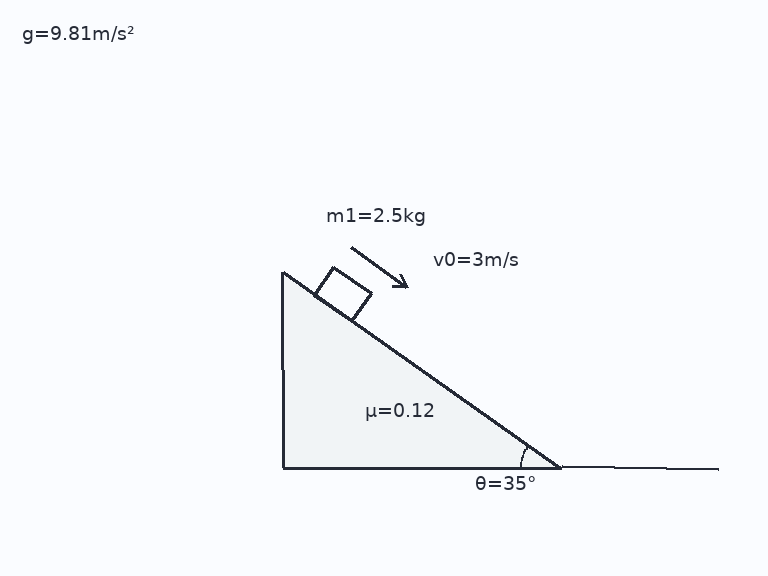block: (312, 265, 373, 323)
ramp: (280, 271, 563, 470)
